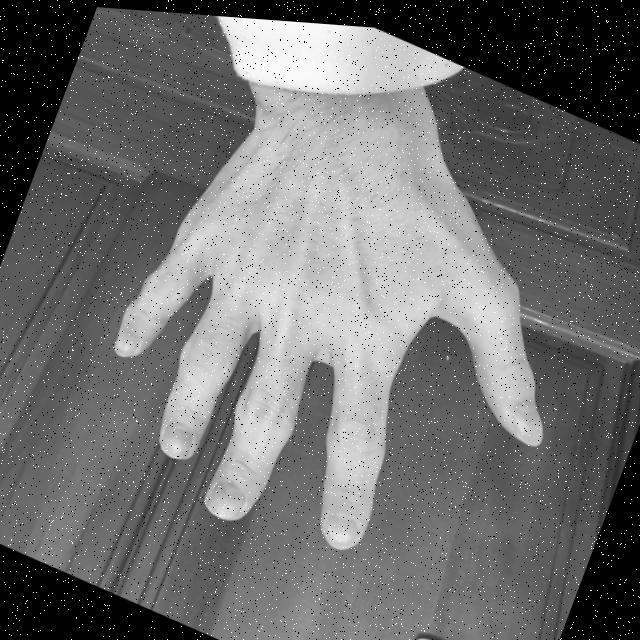no-gloves: (68, 88, 604, 630)
